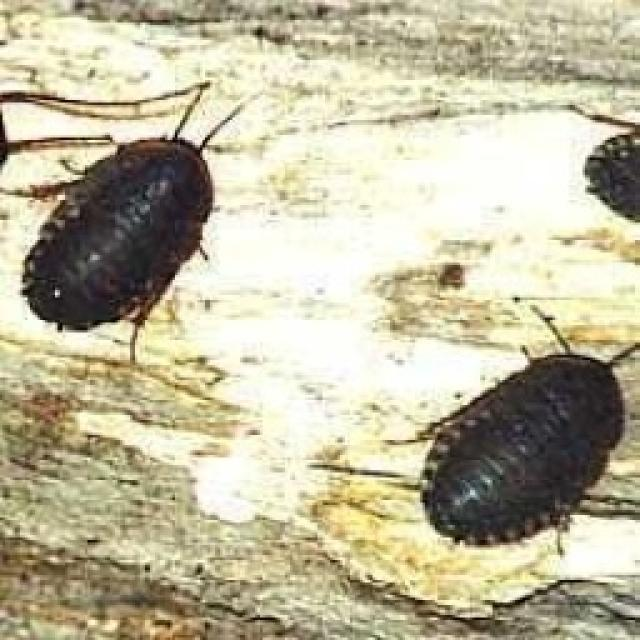cockroach: (27, 80, 281, 350), (402, 322, 636, 562)
